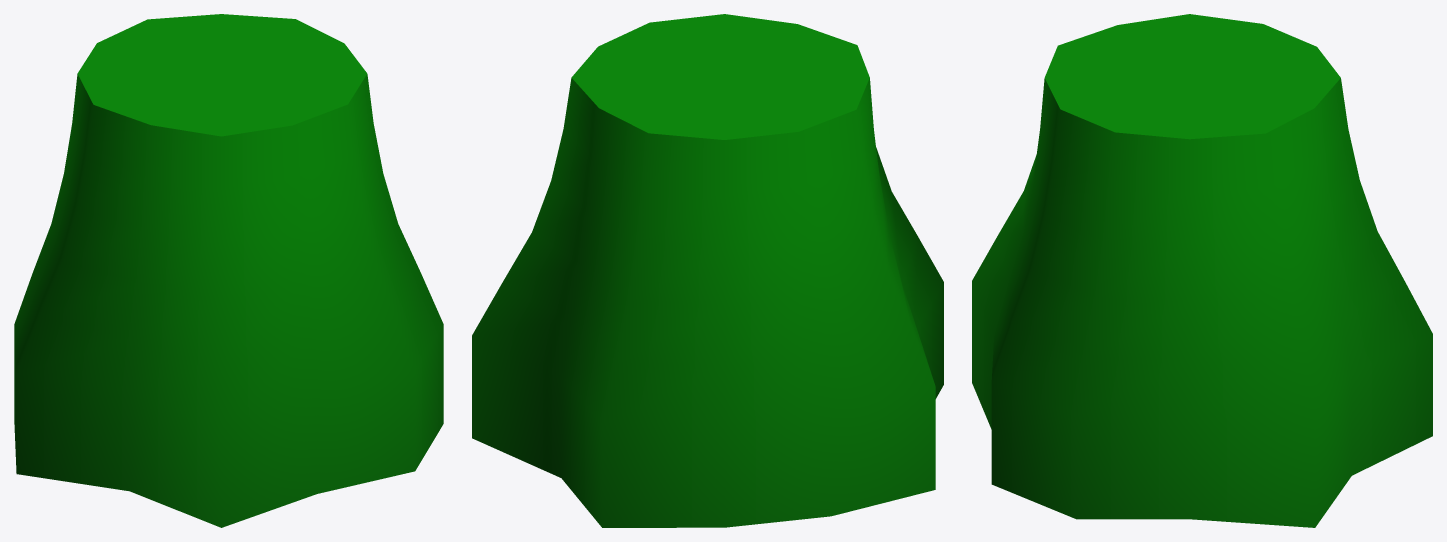
Rendered from stump_a.glb.
The picture shows the model from 3 angles, left to right: view 1: azimuth 30°, elevation 25°; view 2: azimuth 150°, elevation 25°; view 3: azimuth 270°, elevation 25°; orthographic projection. The views are drawn at different scales.
Parts seen in each view (by area): view 1: LOD0; view 2: LOD0; view 3: LOD0.
Part boxes in pixels (<box>): LOD0: <box>14,14,443,527</box>; LOD0: <box>472,14,943,527</box>; LOD0: <box>972,14,1432,527</box>.
Size of what is drawn, in the model's own units: 0.871 by 0.75 by 0.8741.
